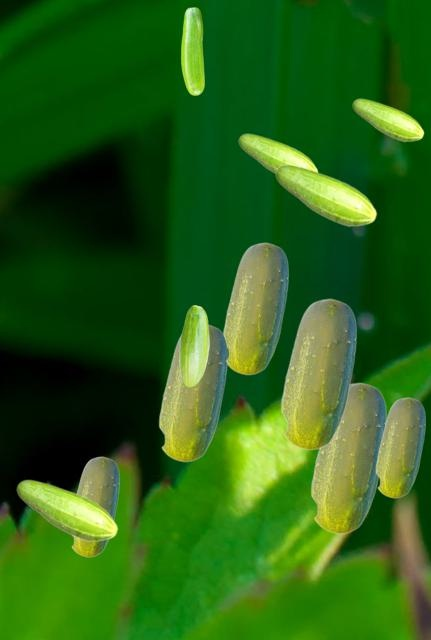cucumber: (310, 382, 385, 533), (280, 298, 355, 449), (158, 324, 226, 461), (223, 242, 287, 374), (275, 164, 376, 226), (16, 479, 117, 541), (375, 397, 424, 497), (71, 456, 118, 556), (238, 133, 317, 173), (352, 98, 423, 141), (179, 305, 208, 386), (181, 7, 203, 94)
